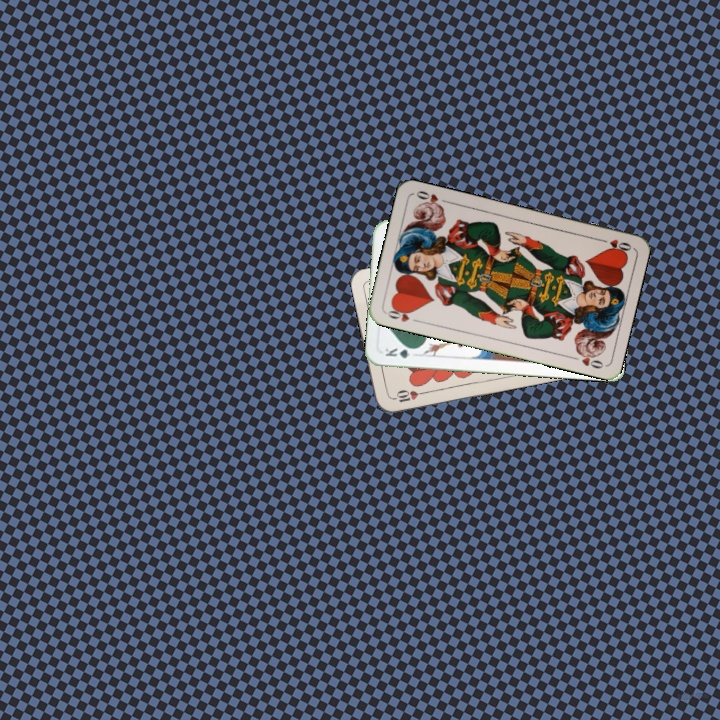GK: (381, 343, 420, 361)
H10: (388, 386, 428, 405)
HO: (382, 303, 422, 325), (594, 234, 634, 255)
